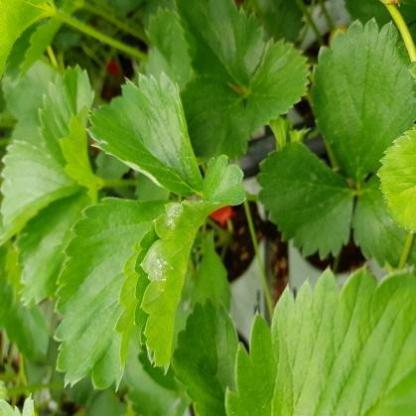Strawberry_Powdery_Mildew_Leaf: (82, 71, 205, 197), (134, 200, 222, 376)
